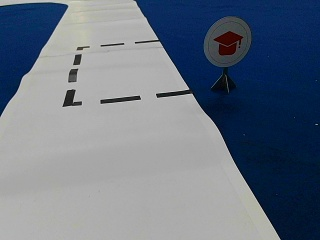school: (204, 17, 251, 66)
